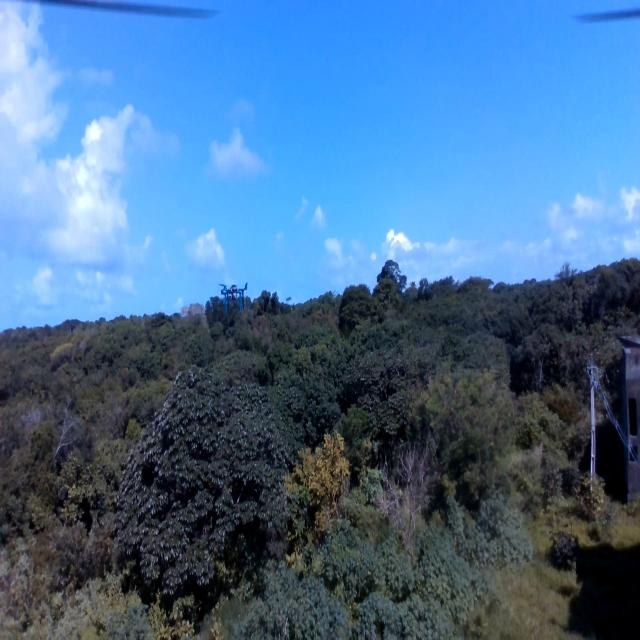-uav-: (215, 274, 260, 344)
